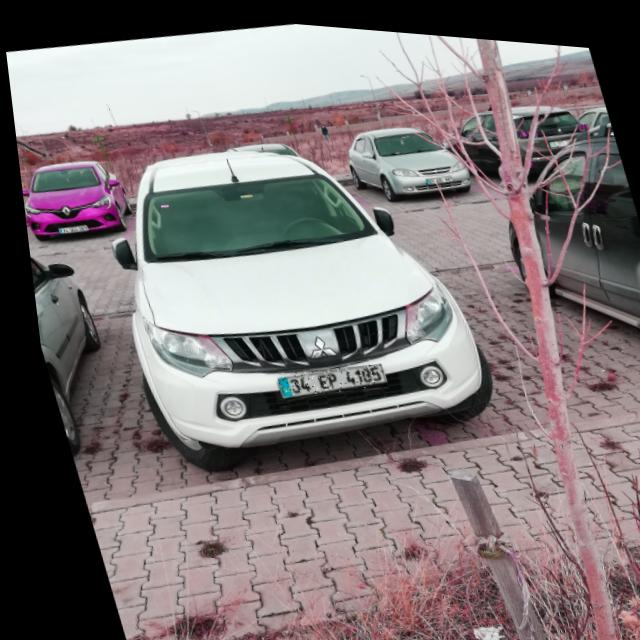license_plate: (265, 350, 380, 400)
